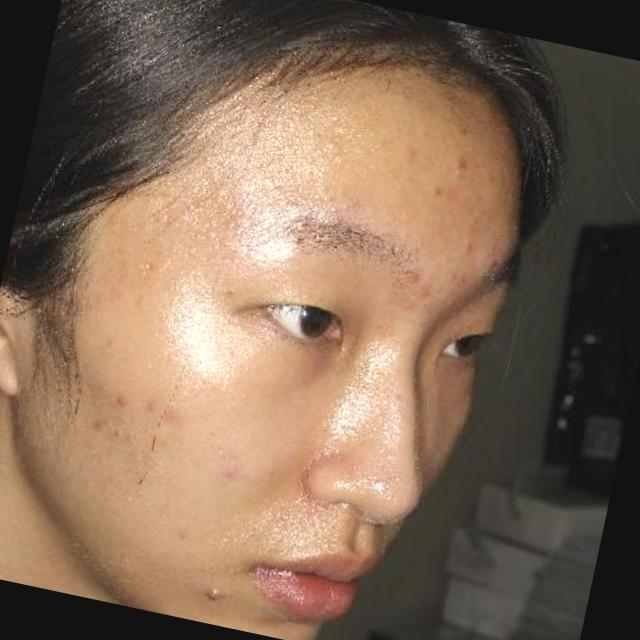nodules: (444, 146, 484, 185), (198, 578, 232, 612)
